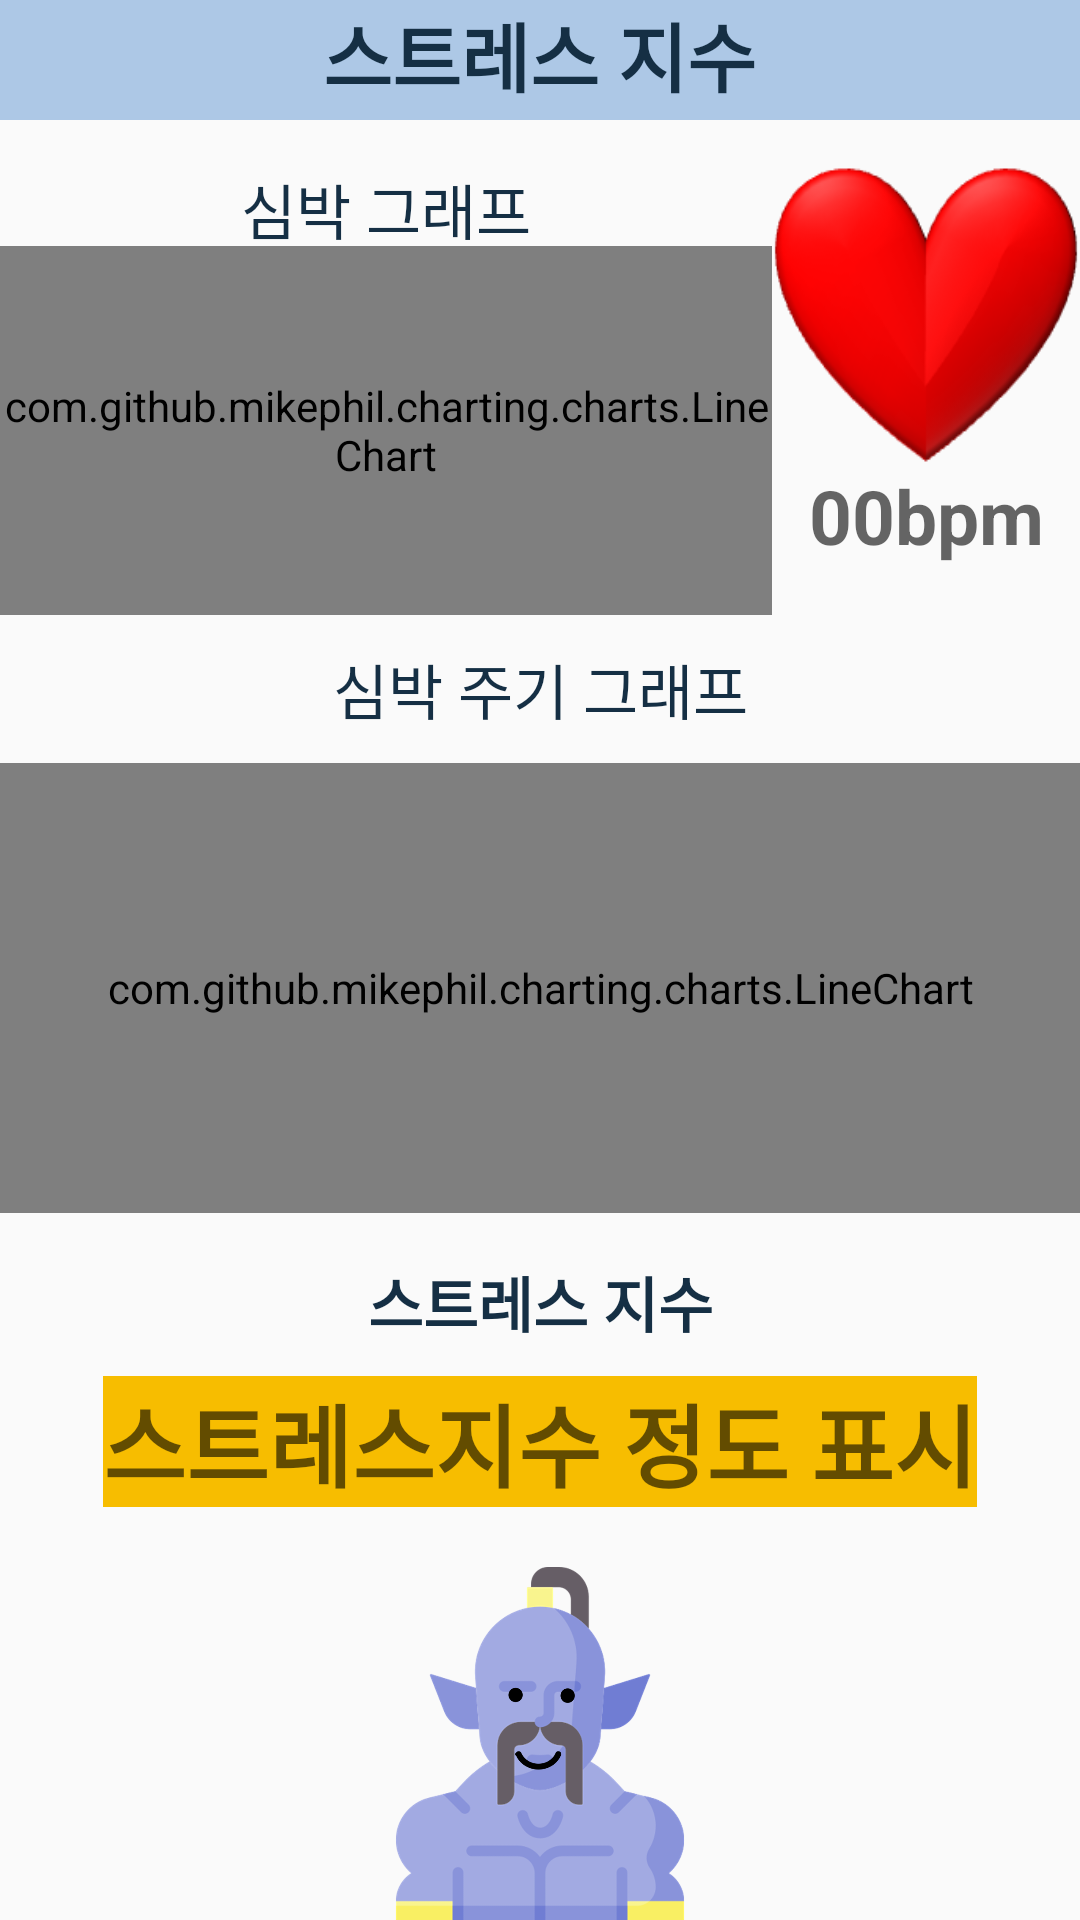

Icons on this 1080 × 1920 Android screen, each with its box as (x1, y1, x2, y2):
heart: (775, 168, 1077, 462)
